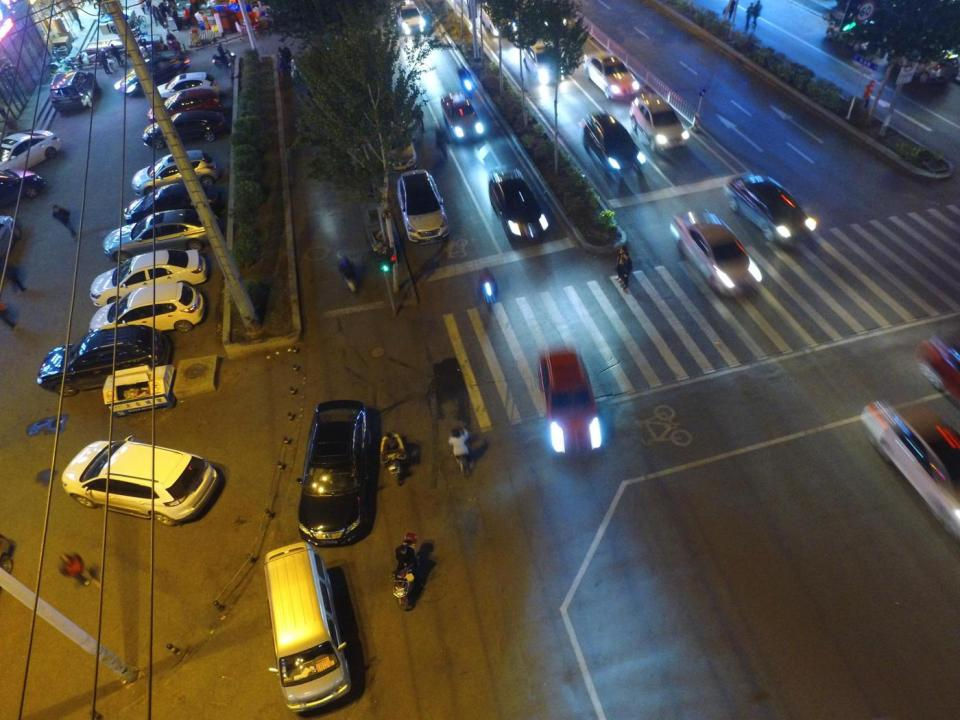car: (859, 397, 960, 540), (60, 438, 220, 526), (38, 327, 172, 398), (300, 398, 366, 541), (672, 209, 762, 298), (725, 172, 817, 250), (539, 349, 603, 455), (88, 249, 205, 306), (90, 284, 206, 335), (102, 210, 217, 258), (489, 164, 551, 247), (583, 114, 646, 178), (132, 150, 218, 196), (399, 170, 449, 246), (122, 183, 222, 220), (631, 93, 690, 155), (888, 39, 959, 86), (582, 48, 640, 100), (919, 333, 960, 404), (144, 112, 223, 147), (116, 58, 188, 96), (148, 89, 227, 120), (439, 90, 484, 143), (0, 132, 59, 170), (52, 68, 98, 112), (826, 19, 880, 54), (2, 169, 46, 209), (149, 73, 219, 97), (524, 43, 561, 87), (394, 3, 426, 37)
van: (264, 541, 350, 713)
